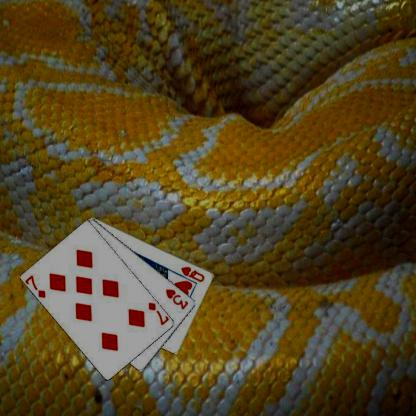3H: (163, 286, 190, 311)
7D: (146, 300, 170, 326), (24, 273, 46, 299)
QH: (179, 264, 206, 283)
